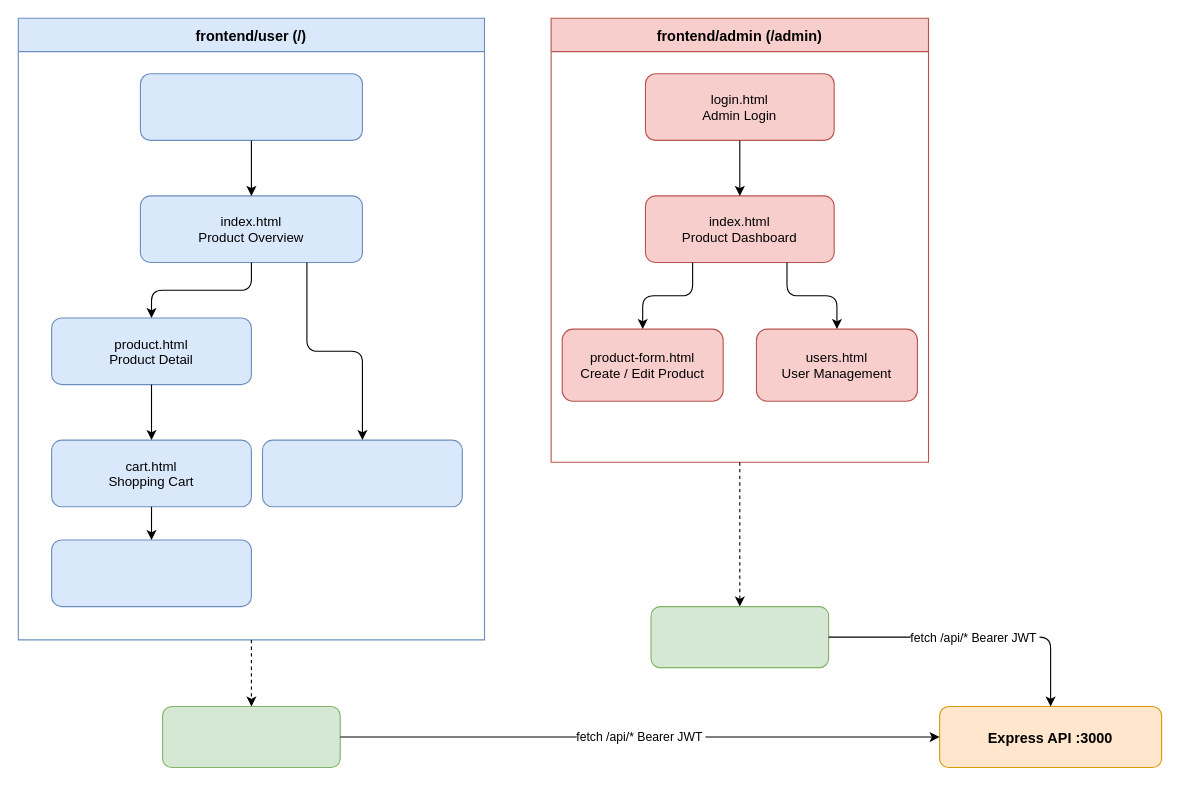
Image size: 1180x786. Some labels were removed from this diagram. The shapes that lost their labels are listed below. From the top down, each one's centre as x and y in pixels, then its label:
the point at 250,106: login.html Password & Magic-Link Login
the point at 361,473: wishlist.html Wishlists
the point at 151,573: orders.html Order History
the point at 739,637: admin/js/api.js
the point at 251,736: user/js/api.js
